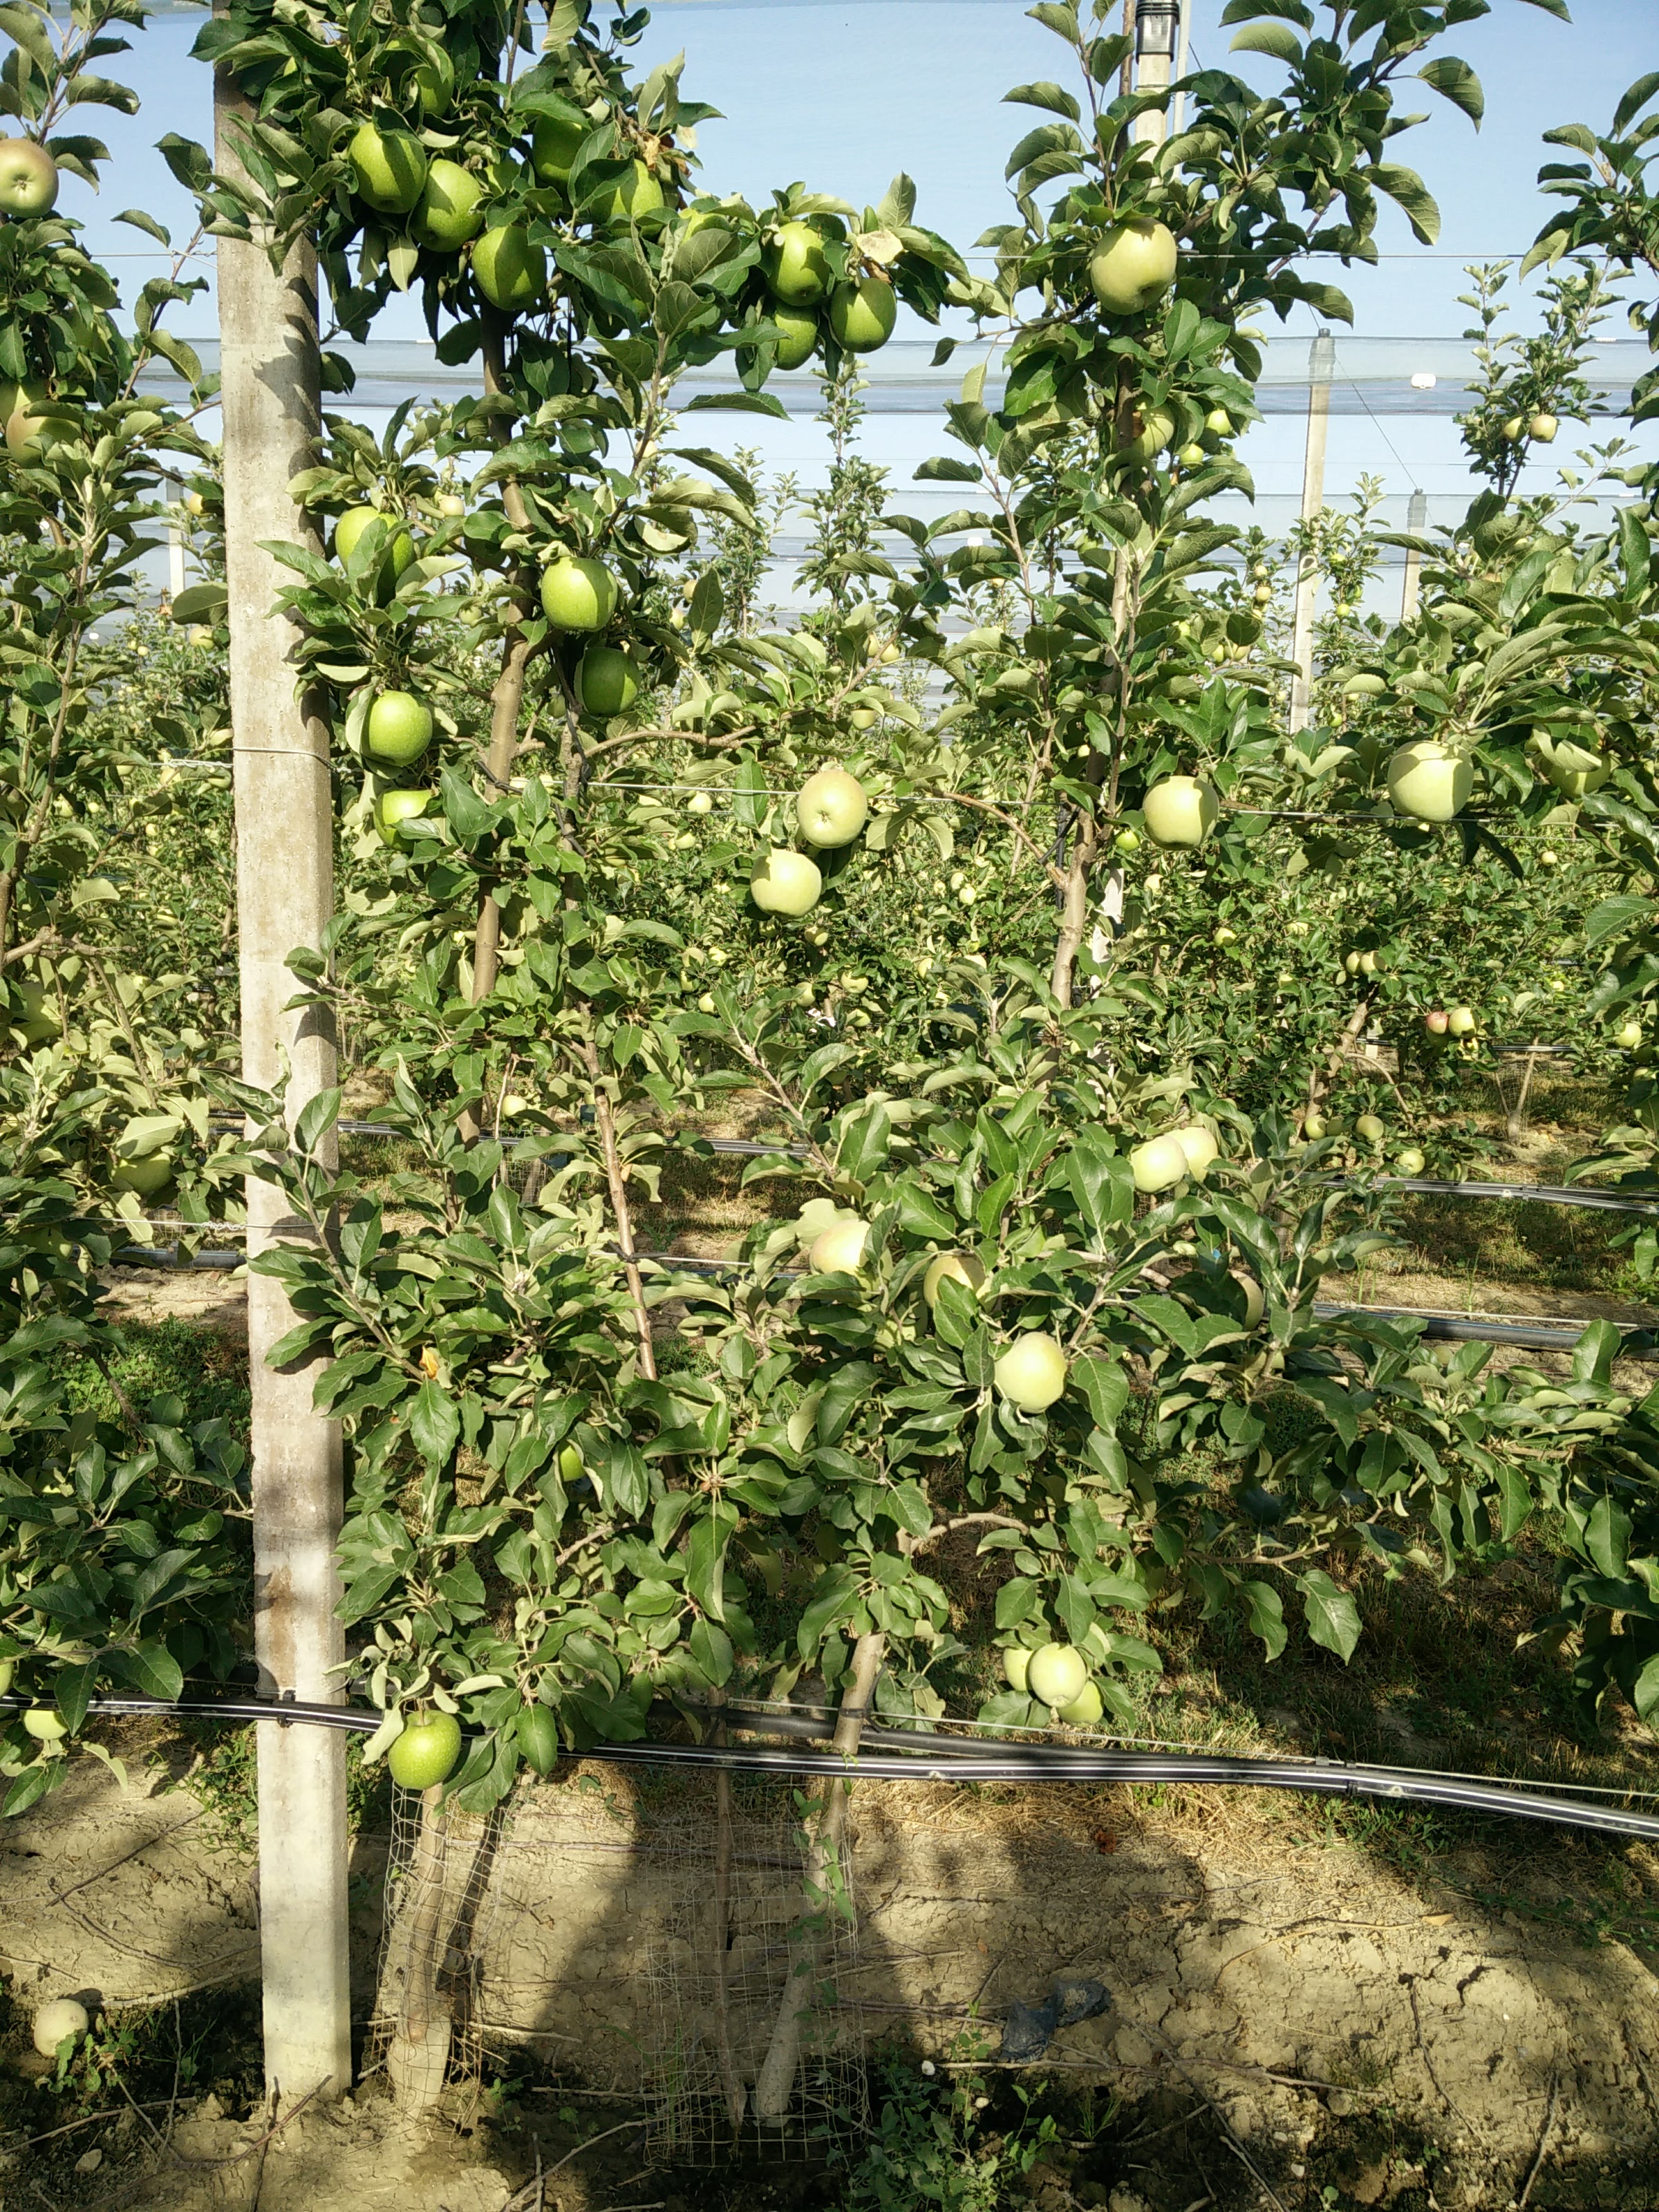apple: (1080, 215, 1183, 318), (1386, 735, 1474, 825), (338, 126, 426, 213), (351, 682, 439, 768), (379, 1707, 465, 1795), (984, 1330, 1074, 1412), (791, 768, 874, 852), (744, 837, 829, 917), (539, 557, 621, 634), (762, 221, 838, 305), (807, 1218, 891, 1293), (470, 230, 559, 301), (1140, 771, 1221, 847), (1121, 1125, 1190, 1196), (1026, 1637, 1087, 1708)
